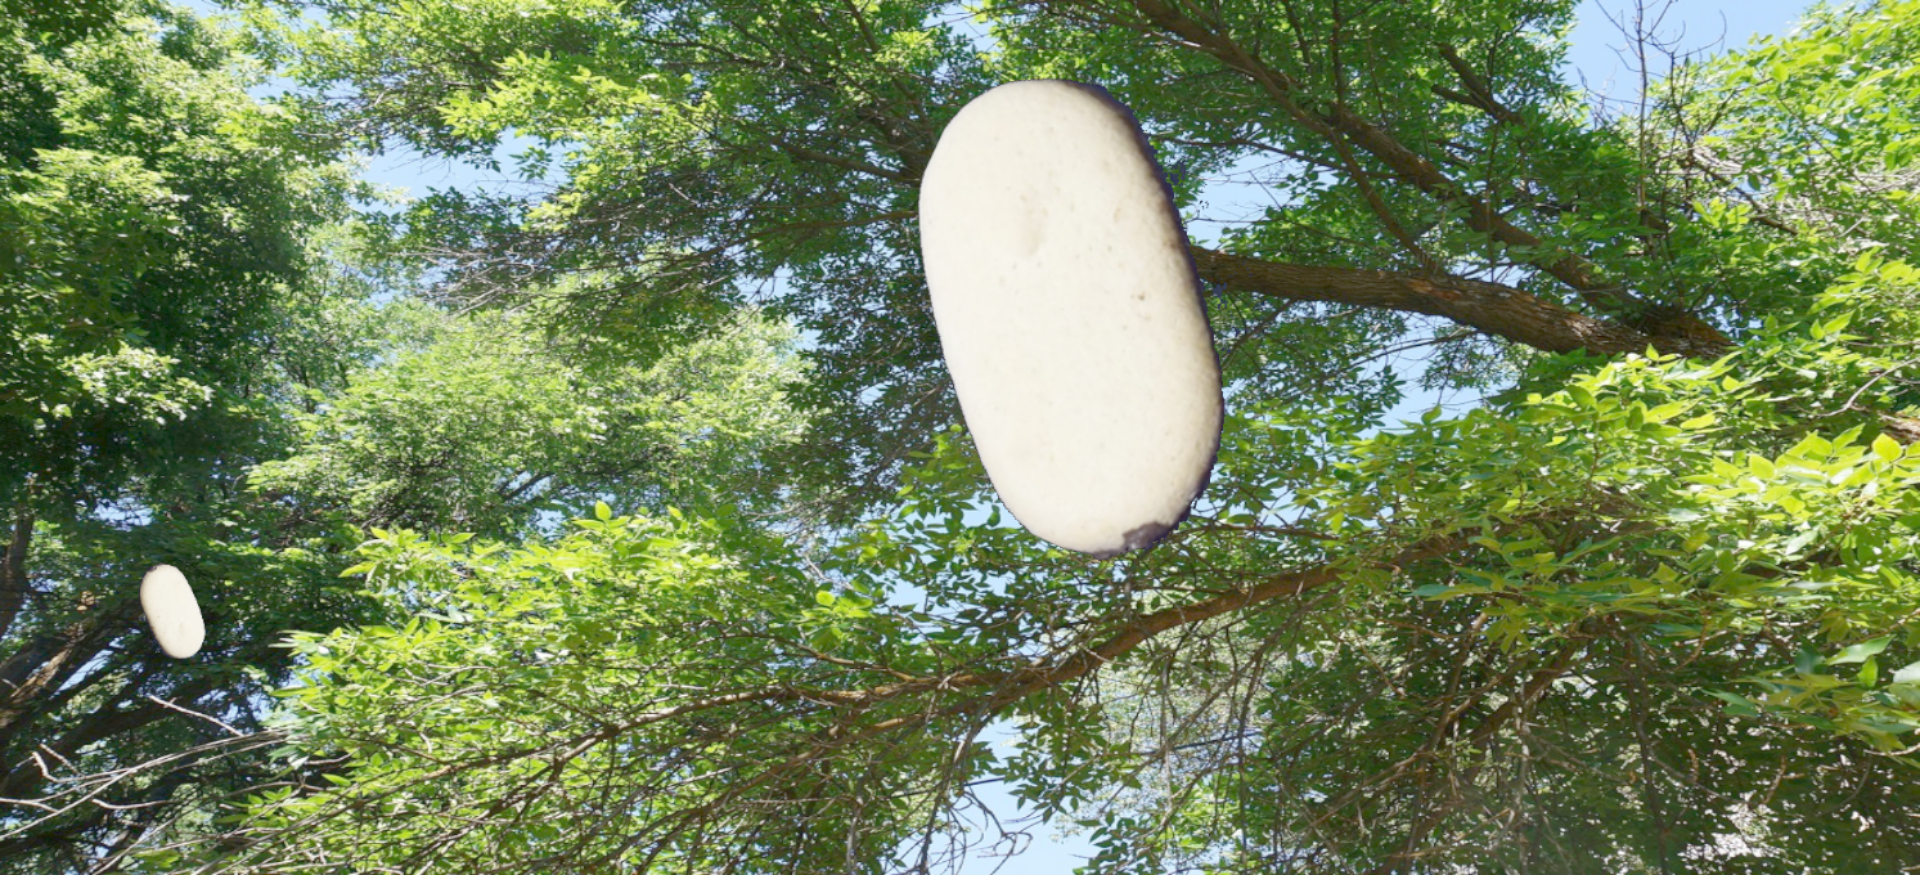test: (800, 26, 1371, 608), (114, 556, 223, 667)
